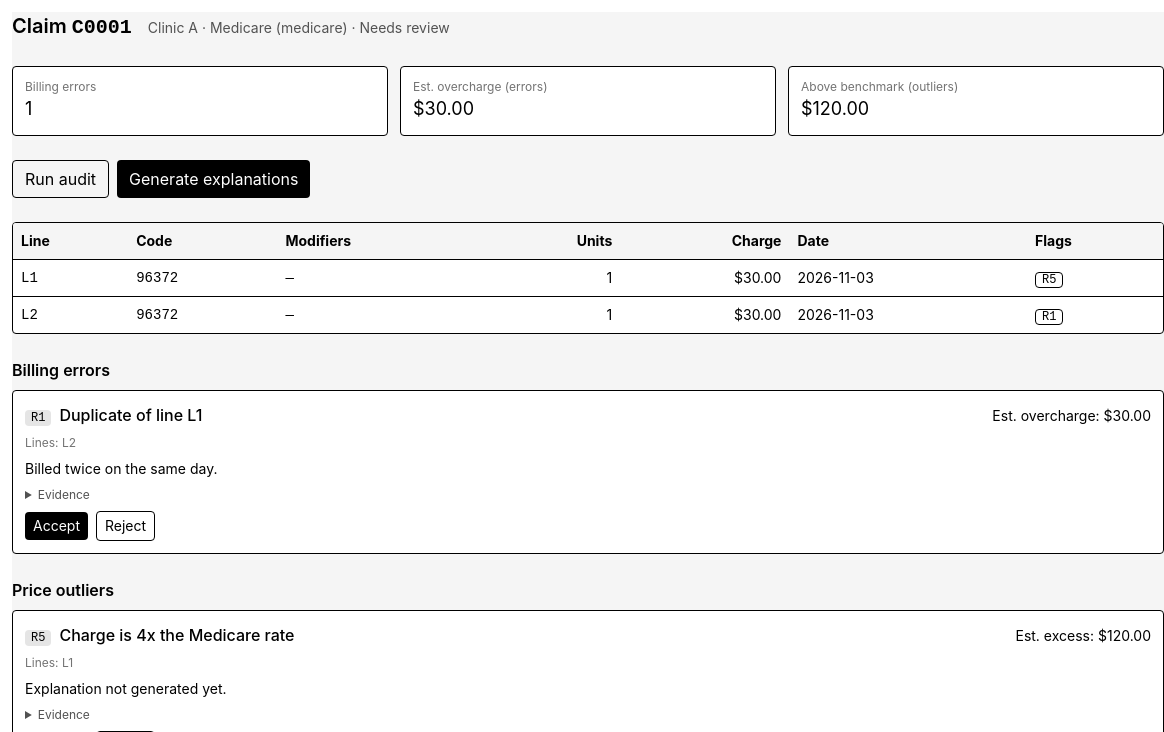
Test: rejecting requires a reason and shows API errors
The width and height of the screenshot is (1164, 732).
Click the button "Reject" below "Billed twice on the same day." at coordinates (126, 526), box [96,511,155,541]
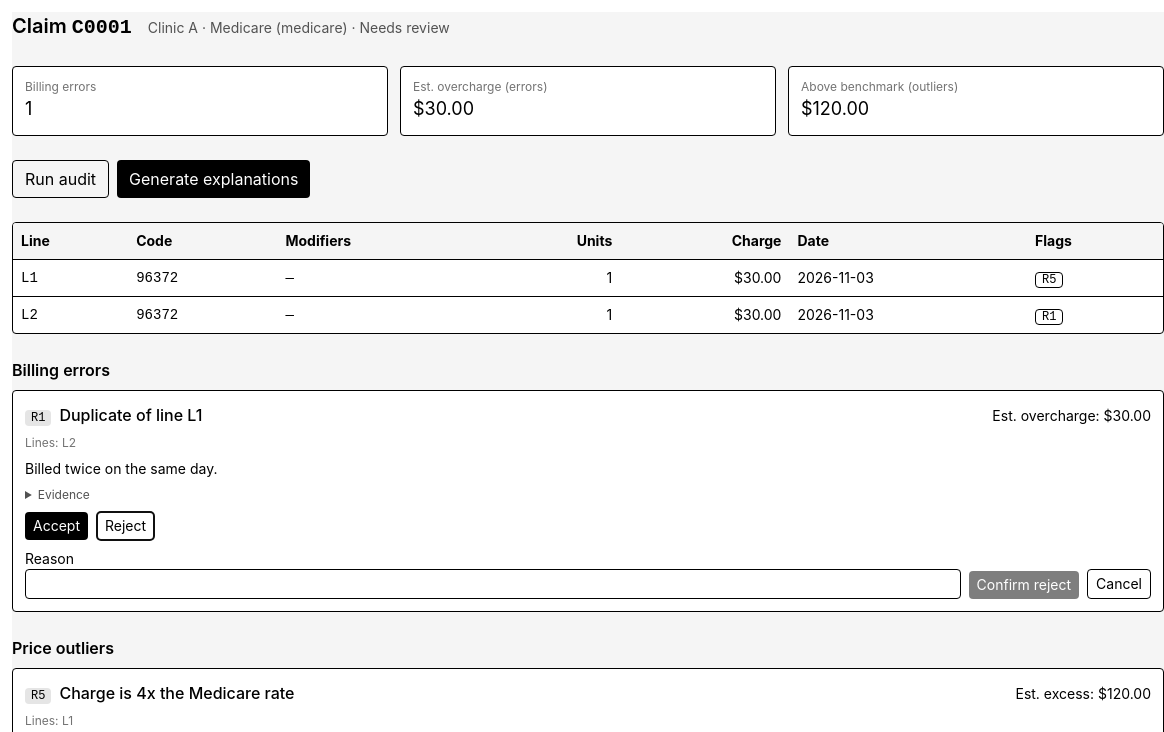
Now the button "Confirm reject" is disabled, box [969,571,1079,599]
Type "separate visits" into the field labelled "Reason" at coordinates (493, 584), box [25,569,961,599]
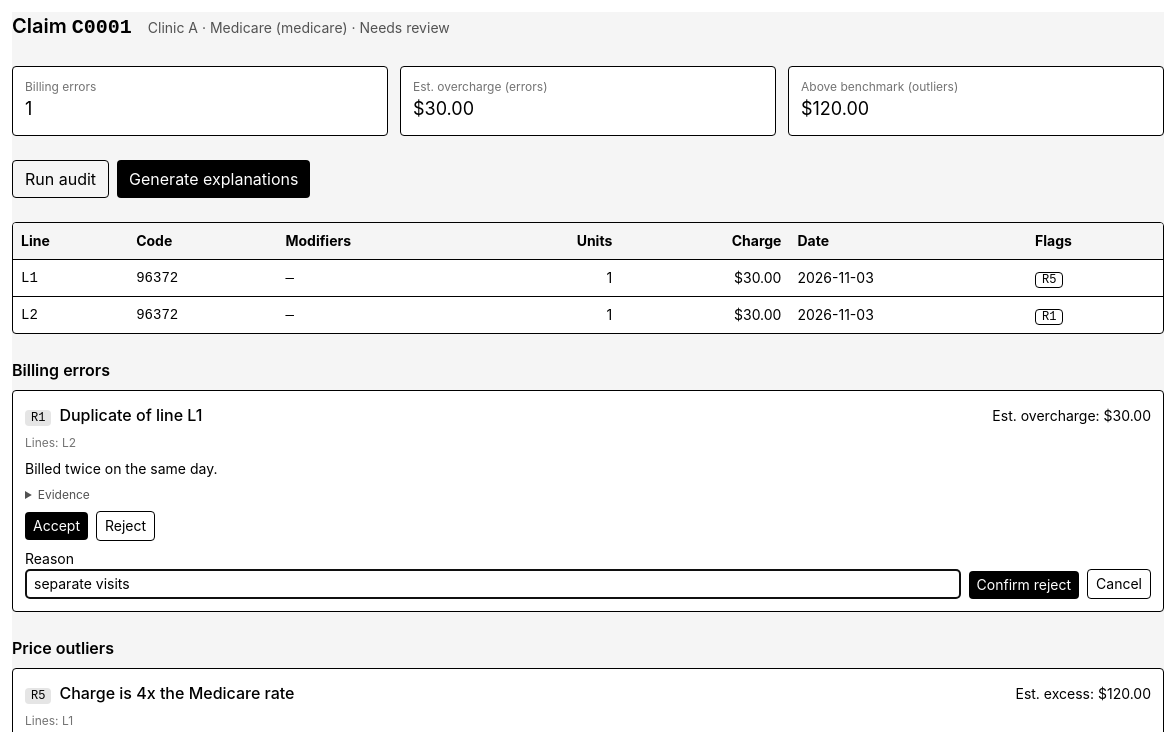
Click the button "Confirm reject" at coordinates (1024, 585), box [969,571,1079,599]
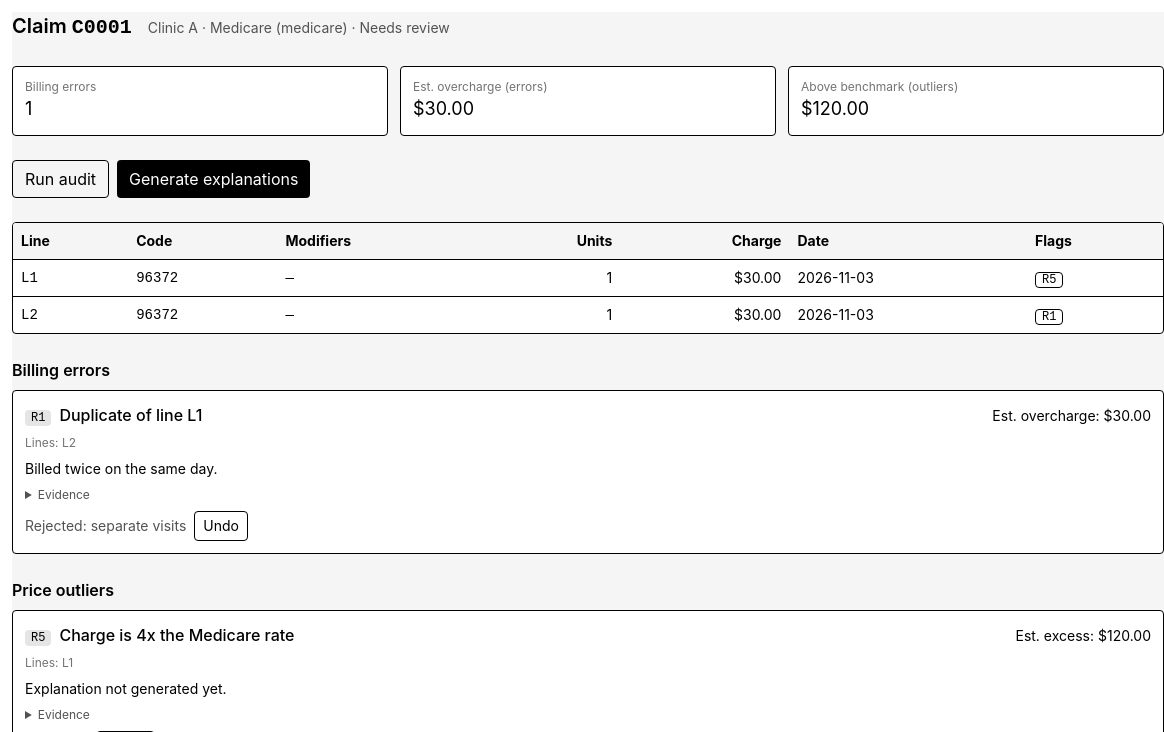
Now the text "Rejected: separate visits" is shown, box [25,516,186,536]
